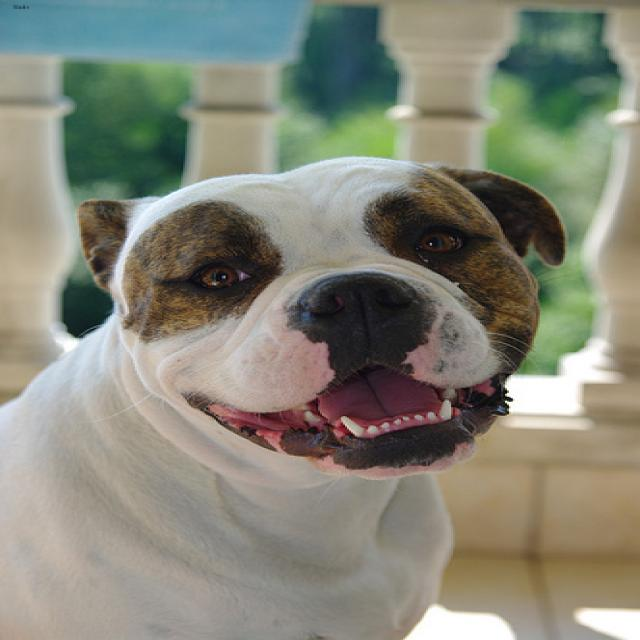dog-american_bulldog: (2, 142, 588, 637)
